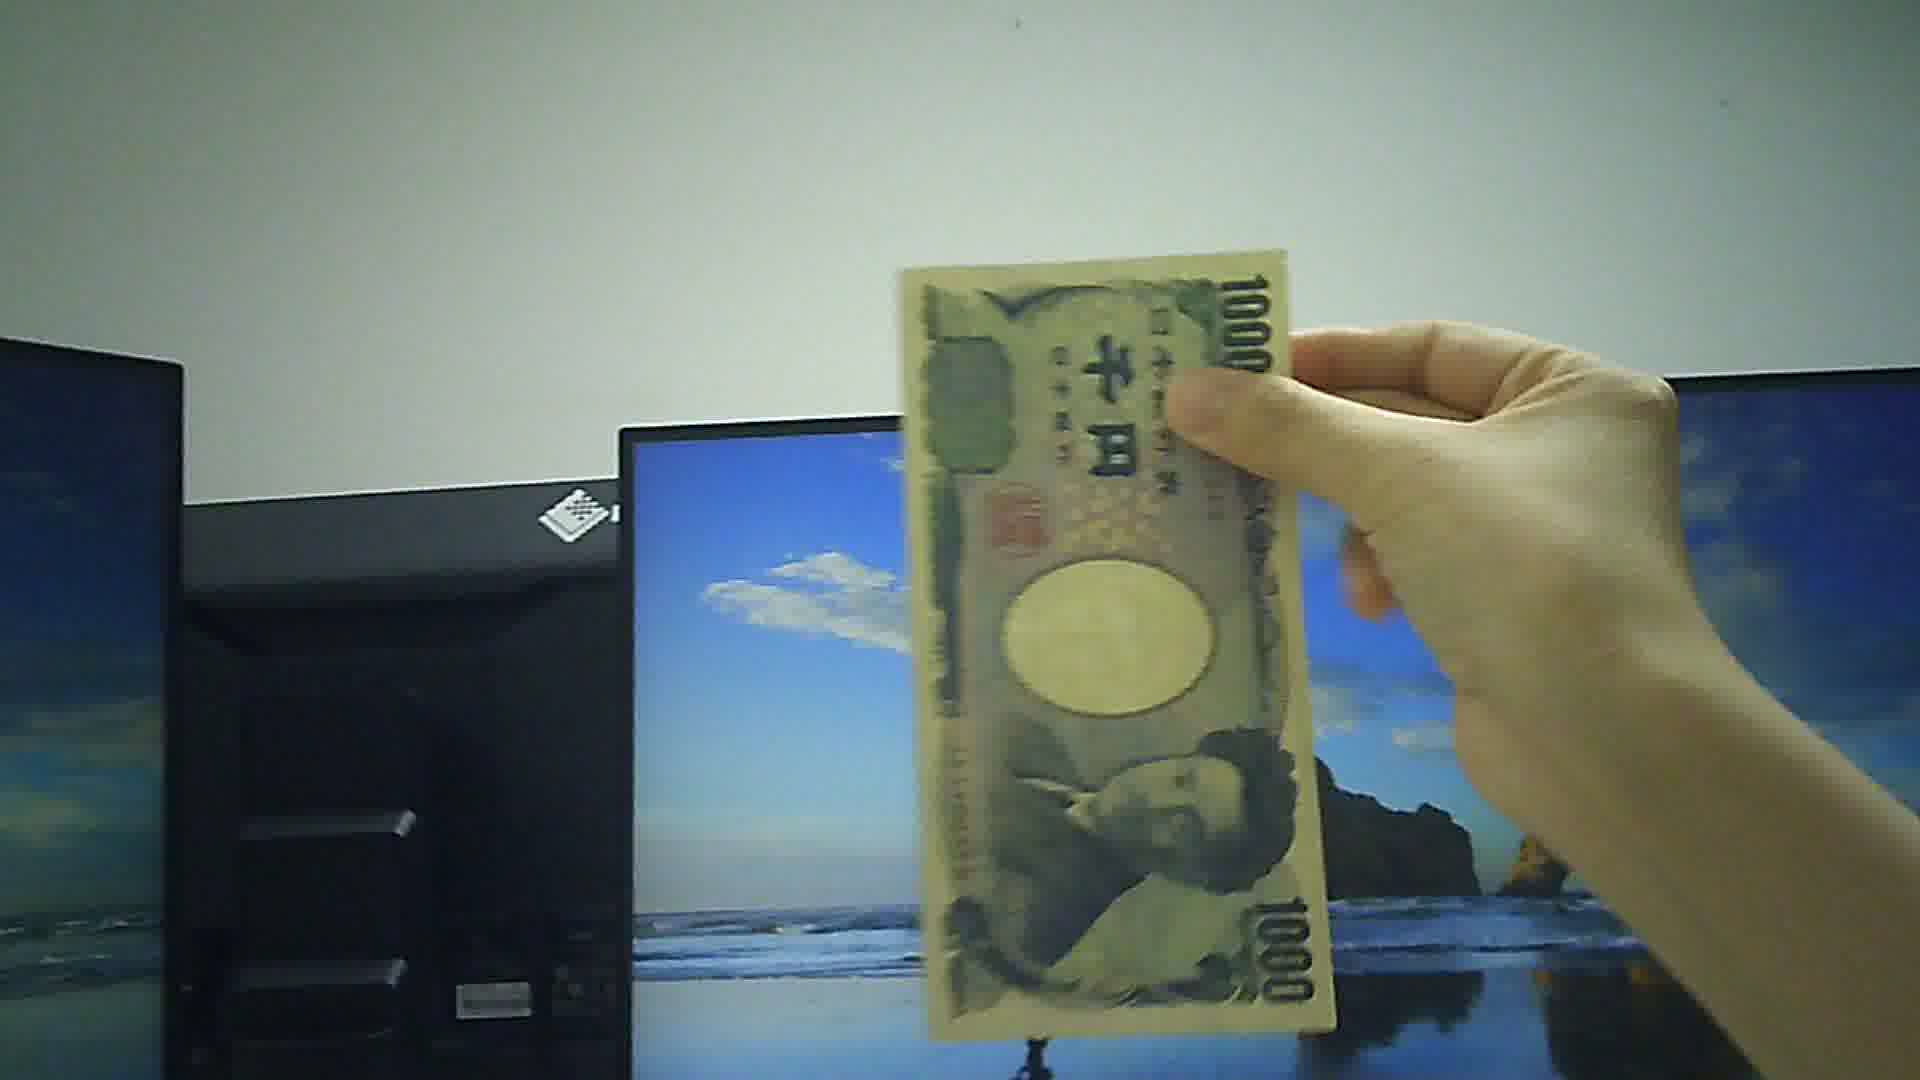1,000 Yen: (884, 245, 1348, 1042)
